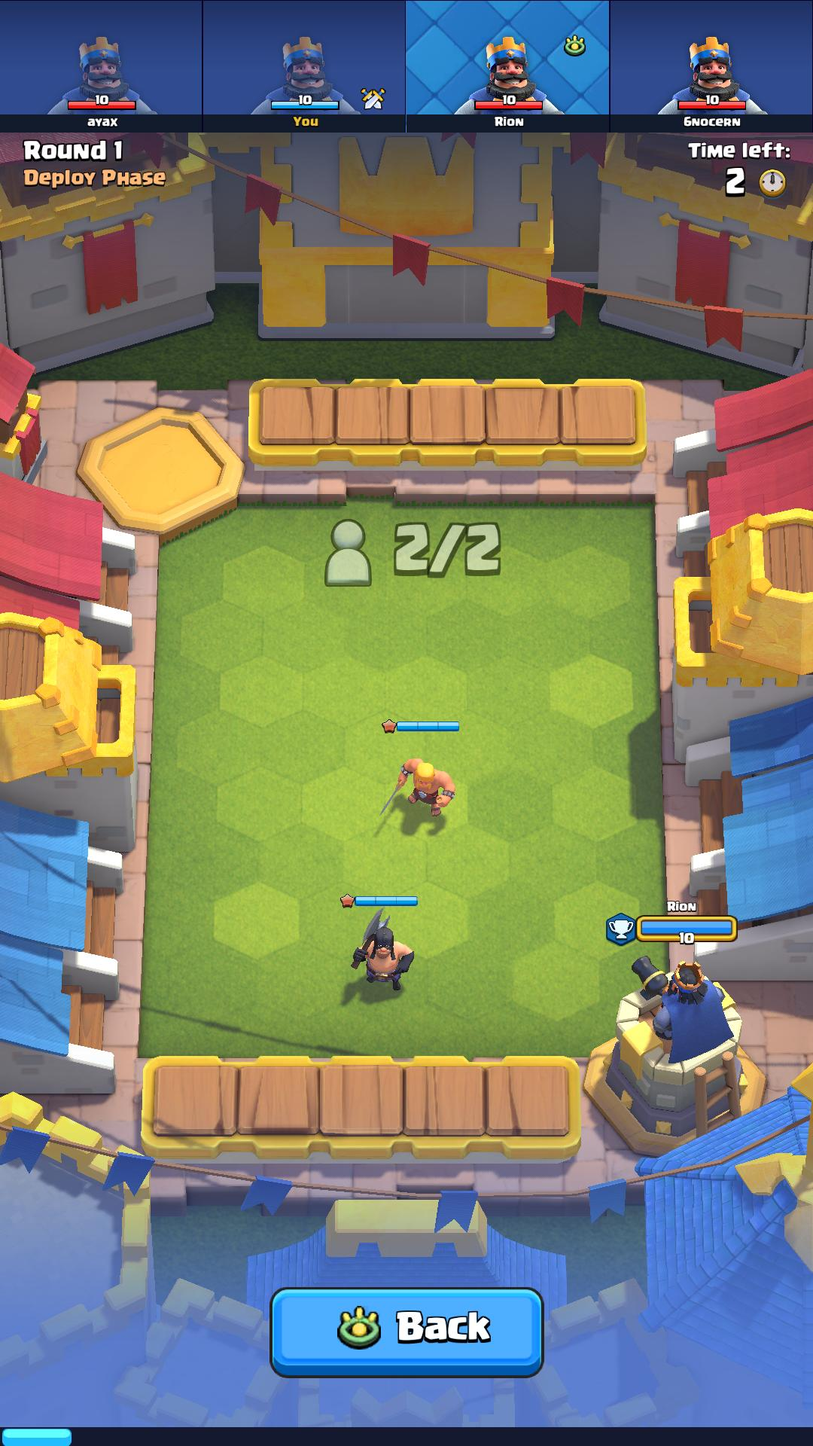barbarian: (378, 753, 462, 831)
executioner: (348, 907, 418, 999)
